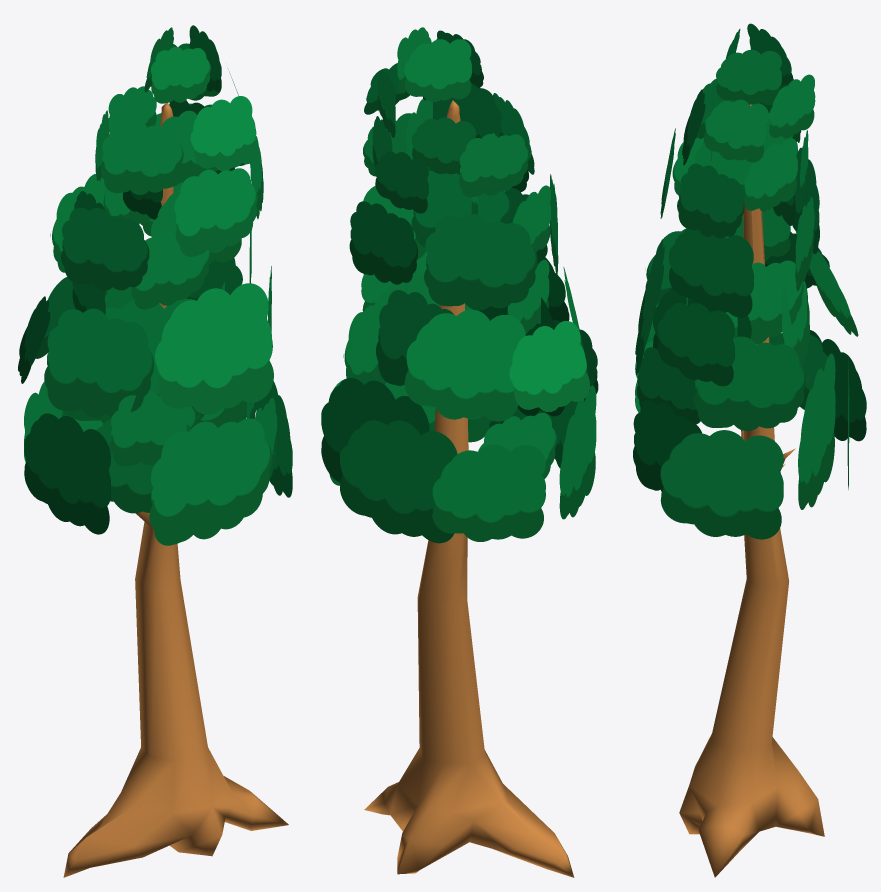
The model's file is Tree_prop_grass.fbx.
3 renders of one model, left to right at view 1: azimuth 30°, elevation 25°; view 2: azimuth 150°, elevation 25°; view 3: azimuth 270°, elevation 25°, orthographic.
Visible parts, largest first — view 1: Tree_prop_grass; view 2: Tree_prop_grass; view 3: Tree_prop_grass.
Part boxes in pixels (<box>): Tree_prop_grass: <box>18,25,292,877</box>; Tree_prop_grass: <box>321,27,598,877</box>; Tree_prop_grass: <box>633,23,866,877</box>.
Size of the model in its own units: 46.61 by 144 by 38.31.
